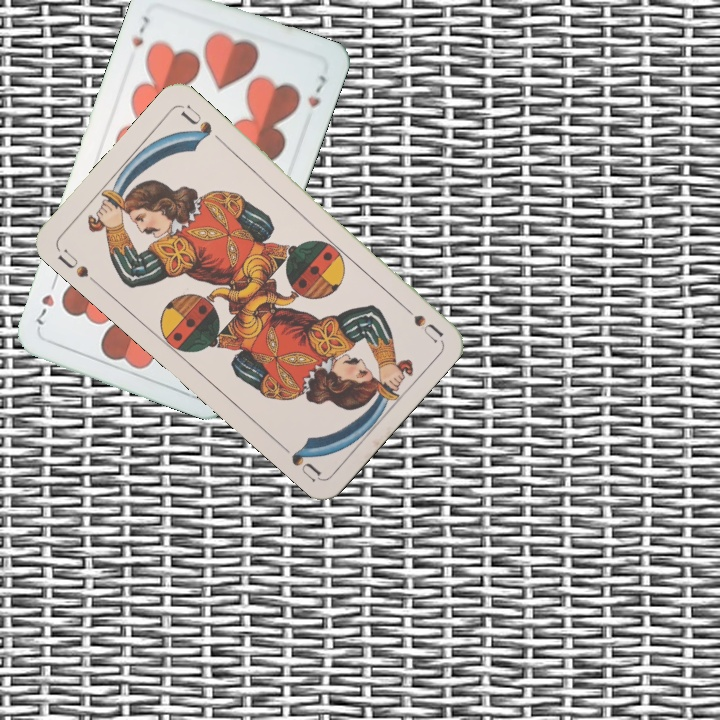H7: (127, 11, 153, 50)
SU: (394, 297, 446, 345), (53, 245, 92, 281)
